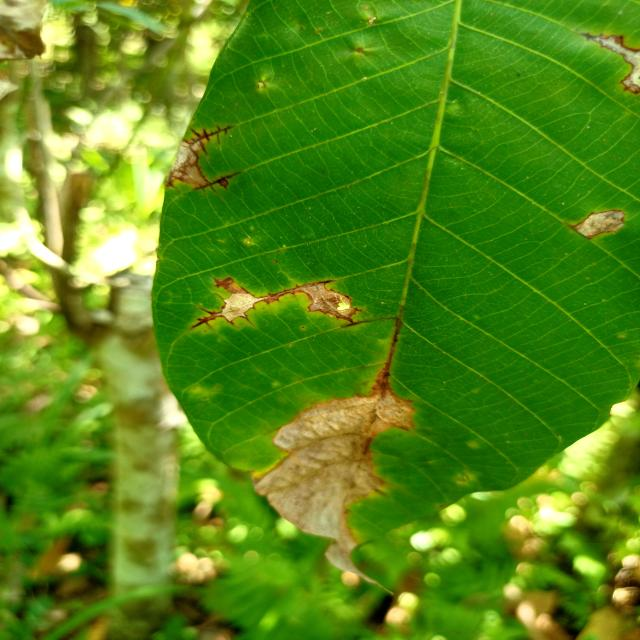Corynespora: (258, 279, 330, 304), (180, 124, 233, 155), (380, 318, 402, 377), (580, 30, 628, 56), (186, 307, 236, 330), (192, 172, 241, 193), (342, 319, 375, 327)
Leaf-Blight: (250, 374, 416, 594), (164, 140, 208, 188), (306, 284, 354, 320), (223, 293, 257, 321), (625, 48, 640, 92)
